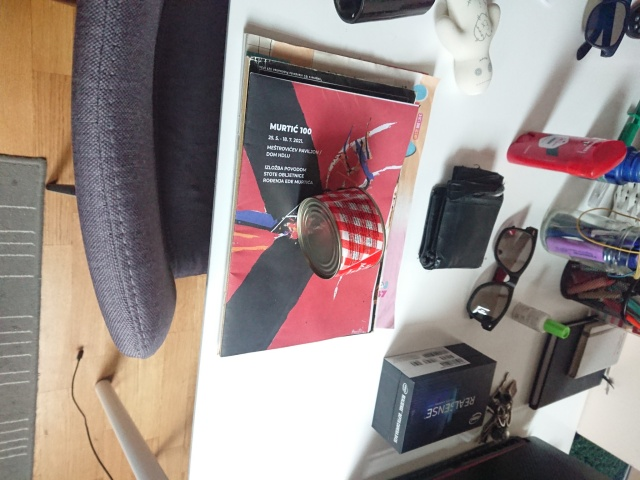Podravka Luncheon Meat 150g: (293, 183, 389, 283)
